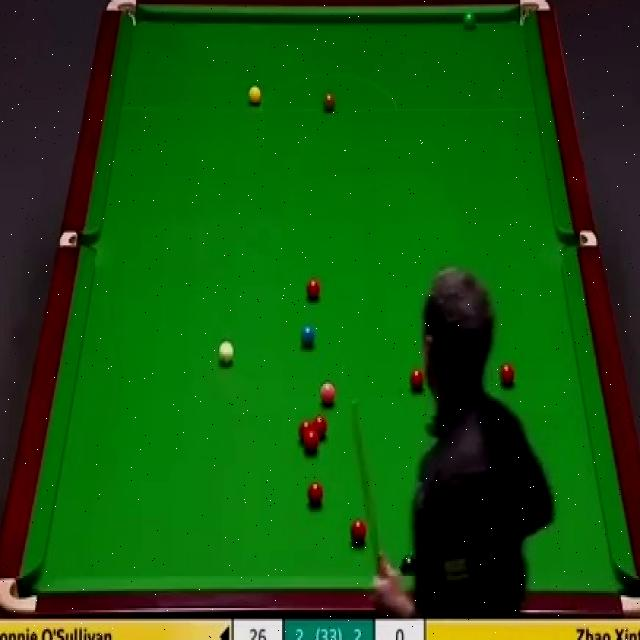black-ball: (399, 556, 419, 576)
blue-ball: (299, 323, 316, 352)
brown-ball: (322, 89, 337, 115)
green-ball: (463, 10, 476, 31)
pink-ball: (319, 380, 336, 406)
red-ball: (306, 480, 324, 510), (349, 519, 368, 545), (500, 362, 516, 389), (410, 367, 426, 393), (306, 276, 321, 300), (304, 429, 318, 452), (313, 416, 327, 436), (299, 420, 312, 437)
white-ball: (218, 338, 235, 366)
yellow-ball: (247, 82, 262, 108)
